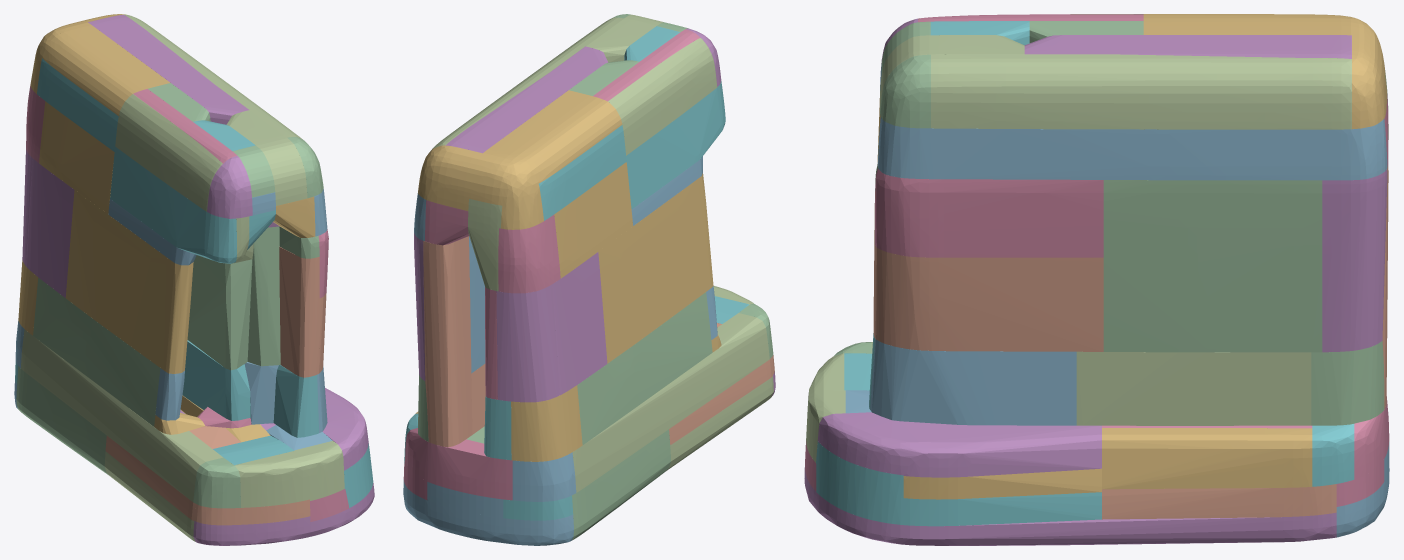
Rendered from office_tools_collision.glb.
The picture shows the model from 3 angles, left to right: view 1: azimuth 30°, elevation 25°; view 2: azimuth 150°, elevation 25°; view 3: azimuth 270°, elevation 25°; orthographic projection. The views are drawn at different scales.
Visible parts, largest first — view 1: world; view 2: world; view 3: world.
Boxes of the visible parts, x1=… form: world: x1=14, y1=14, x2=374, y2=545; world: x1=403, y1=14, x2=775, y2=545; world: x1=804, y1=14, x2=1389, y2=545.
Bounding box in the file's own units: 0.056 × 0.1005 × 0.1171.
